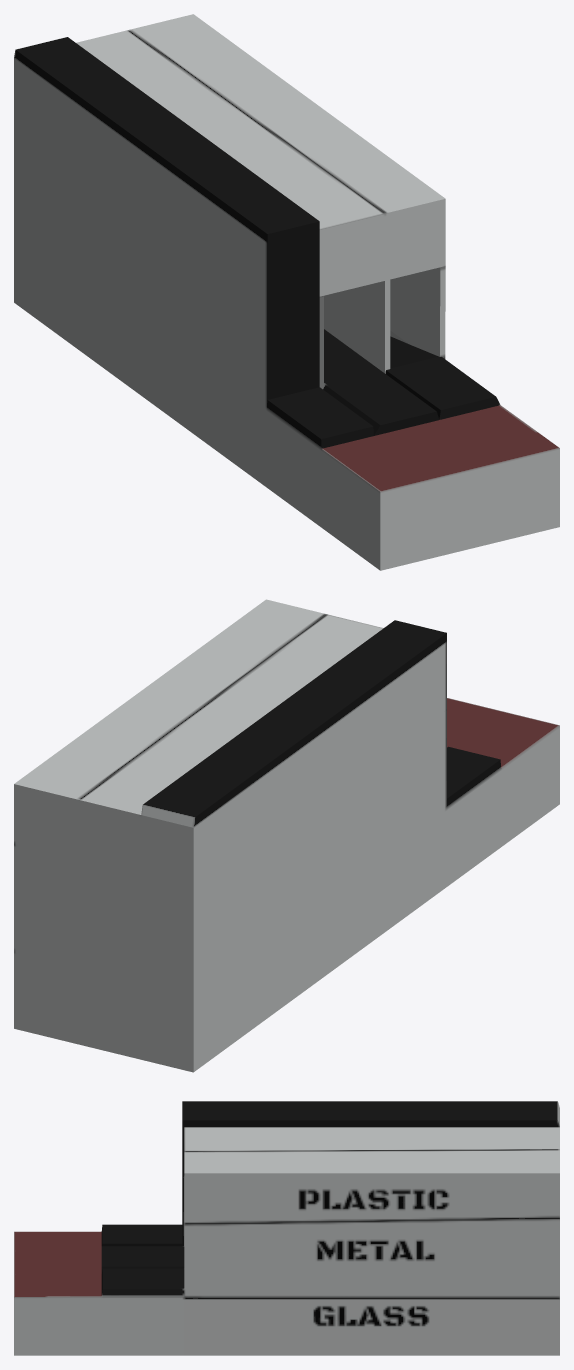
Rendered from Recycle Machine.fbx.
The picture shows the model from 3 angles, top to bottom: view 1: azimuth 30°, elevation 25°; view 2: azimuth 150°, elevation 25°; view 3: azimuth 270°, elevation 25°; orthographic projection. The views are drawn at different scales.
Visible parts, largest first — view 1: Cube.001; view 2: Cube.001; view 3: Cube.001.
Part boxes in pixels (x1,y1,x2,y2): Cube.001: (14,14,559,570); Cube.001: (14,599,559,1072); Cube.001: (14,1101,559,1355).
Size of the model in its own units: 203 by 275 by 719.
Materials: 1 (1 with a texture image).
